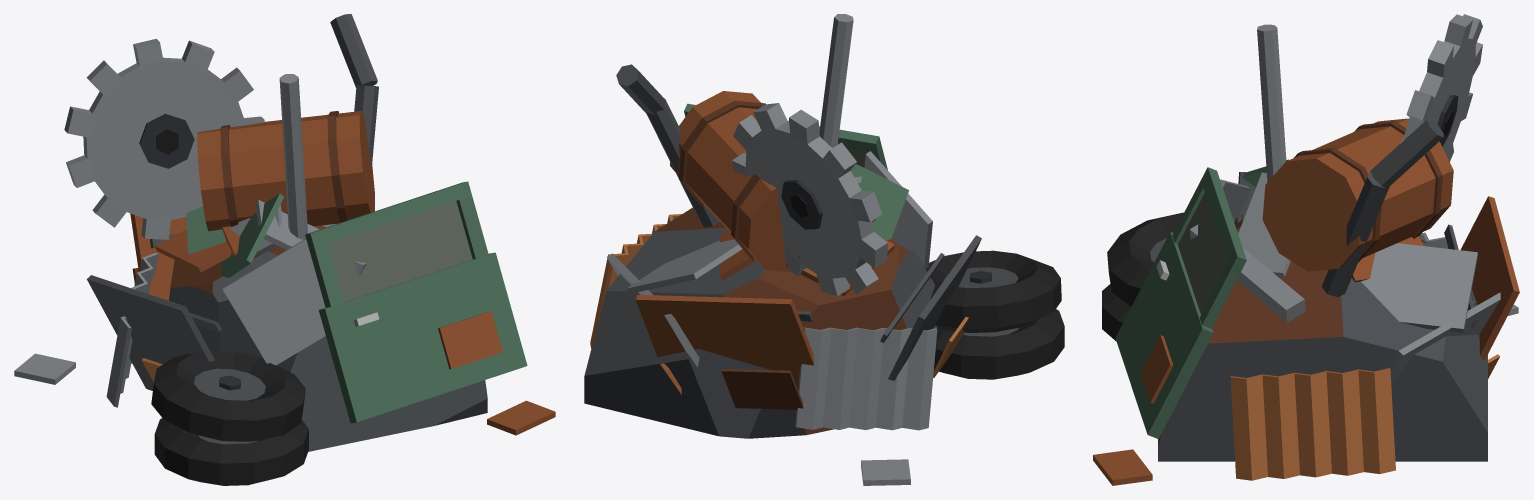
Rendered from scrap_pile_b.fbx.
3 views of the same model, side by side, from view 1: azimuth 30°, elevation 25°; view 2: azimuth 150°, elevation 25°; view 3: azimuth 270°, elevation 25° (orthographic). The views are drawn at different scales.
Visible parts, largest first — view 1: scrap_pile_b; view 2: scrap_pile_b; view 3: scrap_pile_b.
Part boxes in pixels (x1,y1,x2,y2): scrap_pile_b: [14, 14, 555, 485]; scrap_pile_b: [584, 14, 1064, 485]; scrap_pile_b: [1093, 14, 1519, 485].
Bounding box in the file's own units: 1.28 × 1.12 × 1.22.
